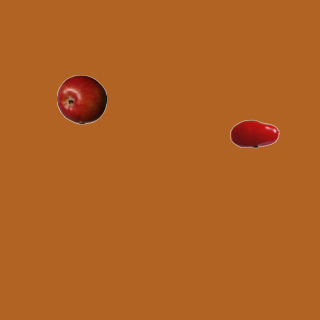Apple Braeburn: (56, 74, 106, 124)
Tomato 2: (229, 108, 279, 158)
